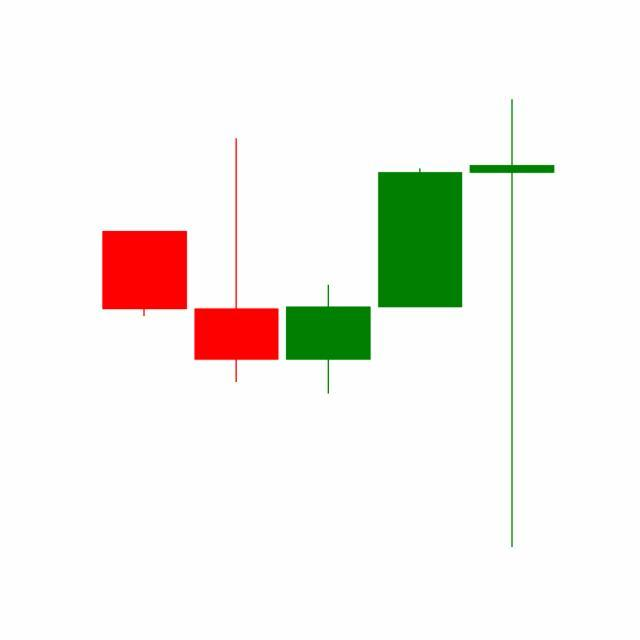Marubozu: (374, 167, 468, 309)
